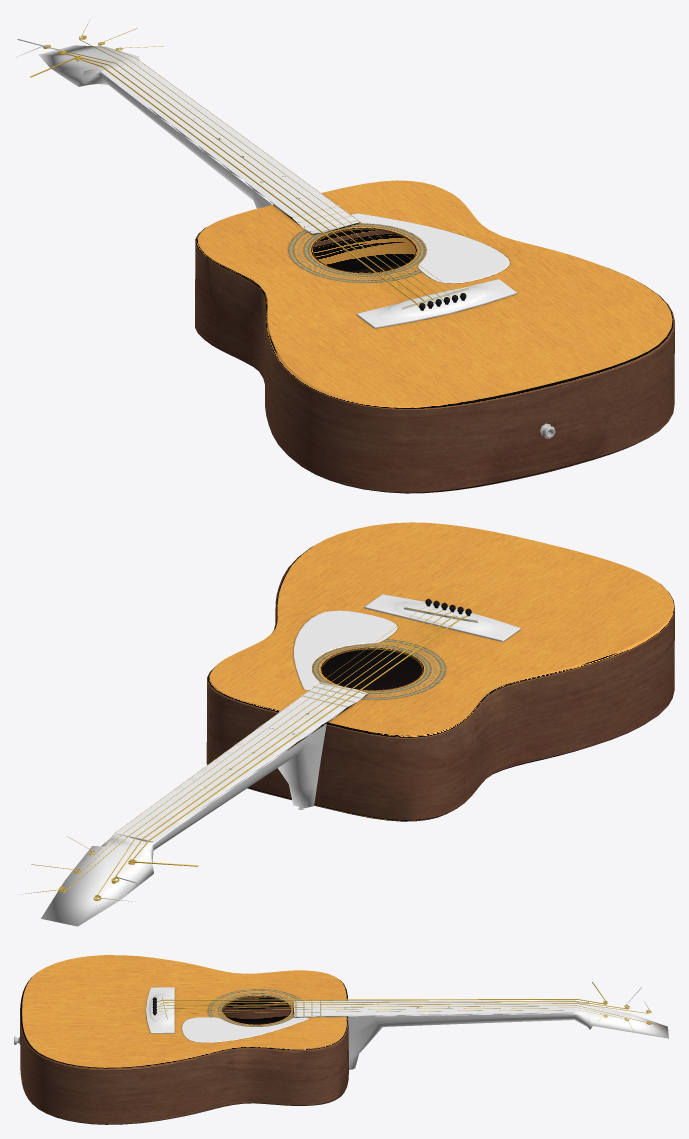
File: guitar.gltf
3 views of the same model, one above another, from view 1: azimuth 30°, elevation 25°; view 2: azimuth 150°, elevation 25°; view 3: azimuth 270°, elevation 25° (orthographic). The views are drawn at different scales.
Parts seen in each view (by area): view 1: cassa, Plane.001, plancia, manico, reggiponte, corda mi basso, corda la; view 2: cassa, manico, Plane.001, plancia, reggiponte, corda mi basso, corda la, corda re, corda sol; view 3: cassa, manico, Plane.001, plancia, reggiponte, corda mi basso, corda la, corda re, corda sol, corda si, corda mi cantino.
Boxes of the visible parts, x1,y1,x2,y2 form: cassa: (195, 180, 674, 493); Plane.001: (101, 62, 359, 233); plancia: (351, 213, 509, 283); manico: (39, 45, 273, 208); reggiponte: (356, 279, 516, 328); corda mi basso: (30, 56, 419, 306); corda la: (17, 39, 426, 305); cassa: (206, 522, 674, 821); manico: (41, 723, 326, 926); Plane.001: (116, 683, 367, 842); plancia: (293, 610, 397, 689); reggiponte: (364, 594, 520, 641); corda mi basso: (128, 615, 467, 866); corda la: (111, 615, 457, 883); corda re: (93, 611, 451, 901); corda sol: (22, 610, 443, 894); cassa: (20, 955, 348, 1124); manico: (348, 1001, 668, 1069); Plane.001: (293, 1000, 575, 1017); plancia: (182, 1017, 308, 1042); reggiponte: (146, 987, 174, 1033); corda mi basso: (157, 982, 607, 1004); corda la: (159, 987, 641, 1009); corda re: (157, 1001, 651, 1013); corda sol: (157, 1005, 665, 1028); corda si: (158, 1007, 633, 1030); corda mi cantino: (156, 1010, 607, 1026).
Size of the model in its own units: 5.04 by 1.35 by 12.31.
12 materials, 2 textured.
